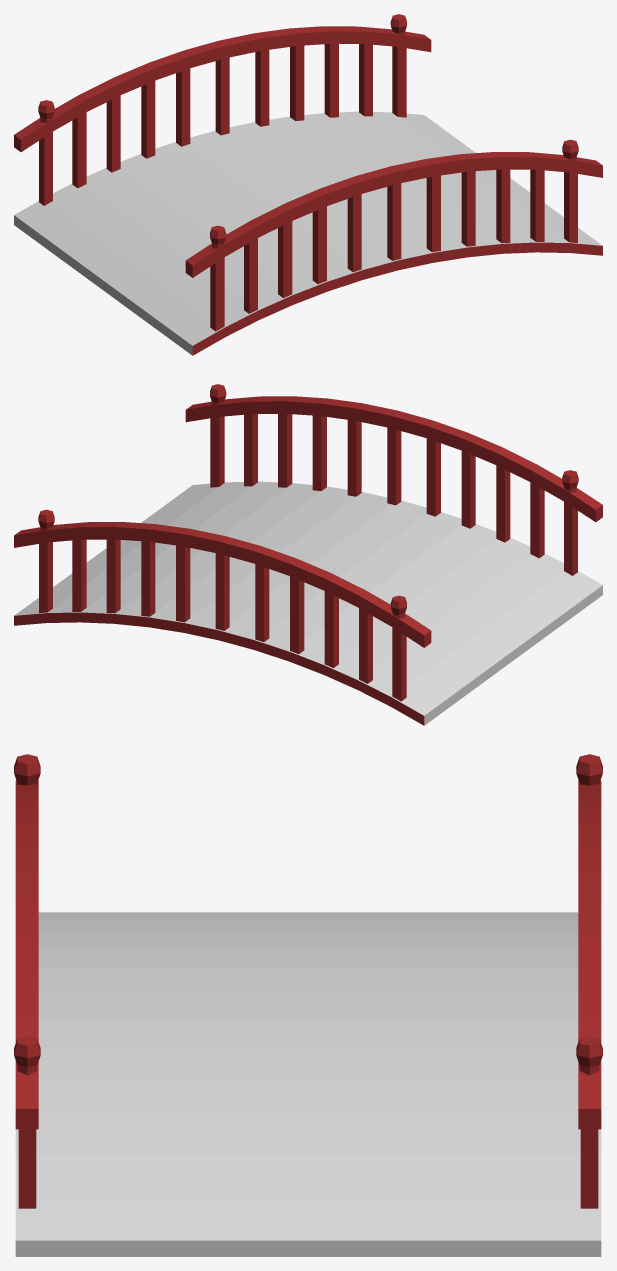
File: Asian_Prop_Bridge_01.FBX
3 views of the same model, one above another, from view 1: azimuth 30°, elevation 25°; view 2: azimuth 150°, elevation 25°; view 3: azimuth 270°, elevation 25° (orthographic). The views are drawn at different scales.
Parts seen in each view (by area): view 1: Asian_Prop_Bridge_01; view 2: Asian_Prop_Bridge_01; view 3: Asian_Prop_Bridge_01.
Boxes of the visible parts, <box> form: Asian_Prop_Bridge_01: <box>14,14,602,355</box>; Asian_Prop_Bridge_01: <box>14,384,602,725</box>; Asian_Prop_Bridge_01: <box>14,754,602,1256</box>.
Bounding box in the file's own units: 9852 × 3084 × 7473.
